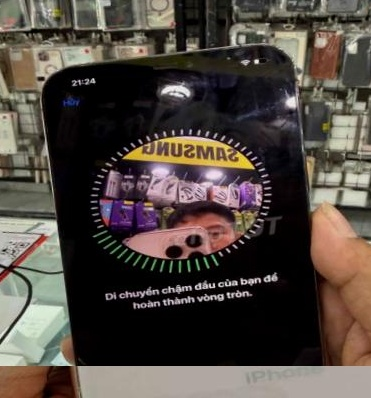physical_damage: (106, 391, 371, 398)
